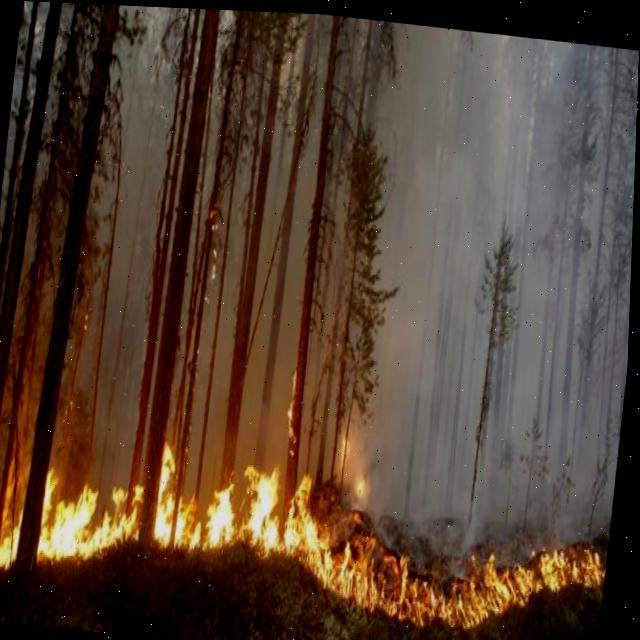fire: (43, 448, 349, 581), (342, 539, 526, 626), (529, 541, 611, 593)
smoke: (343, 18, 639, 548), (74, 4, 178, 482), (239, 56, 328, 471)
